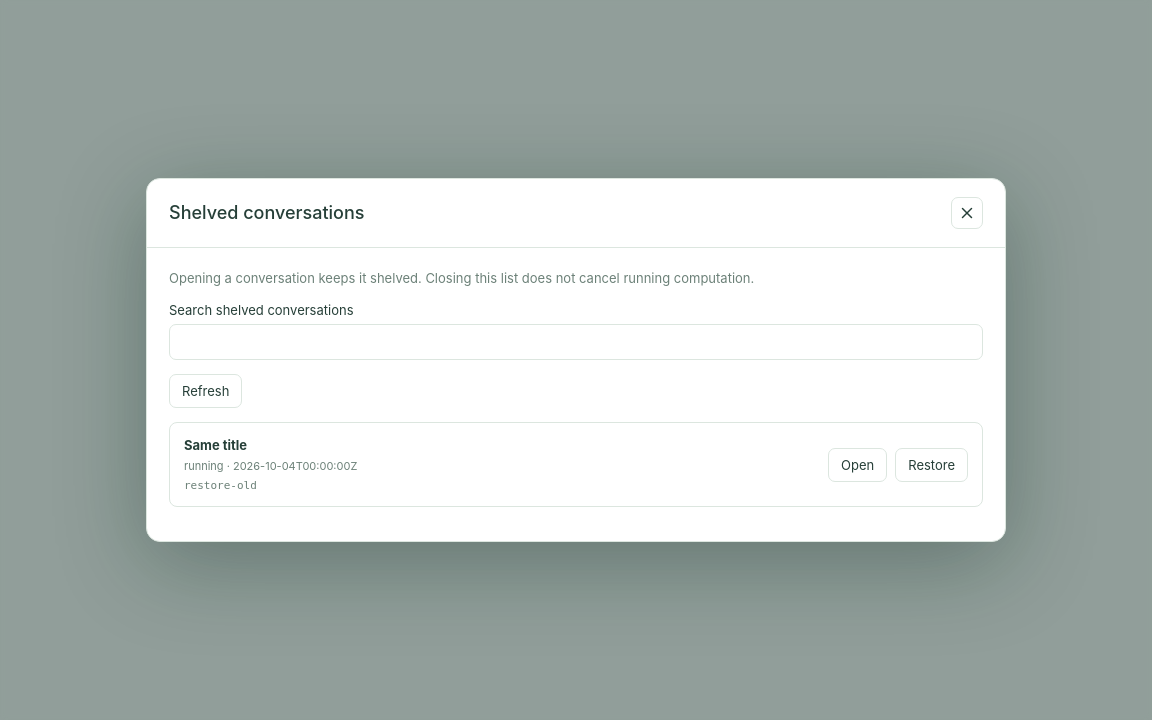
Test case: does not refresh a new query when an old restore finishes
Expected: the text "restore-old" is shown, [184,479,257,492]
Click the button "Restore".
click(932, 465)  # box [895,448,968,482]
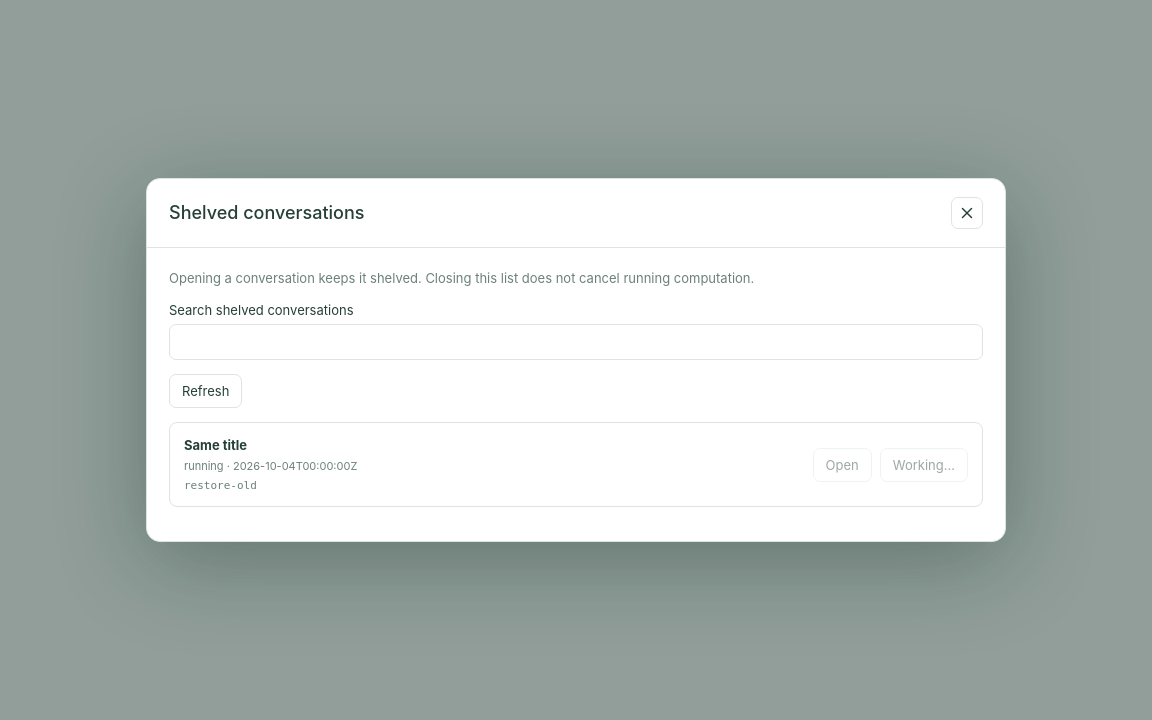
Type "new" into the field labelled "Search shelved conversations".
click(576, 342); type("new")  # box [169,324,983,360]
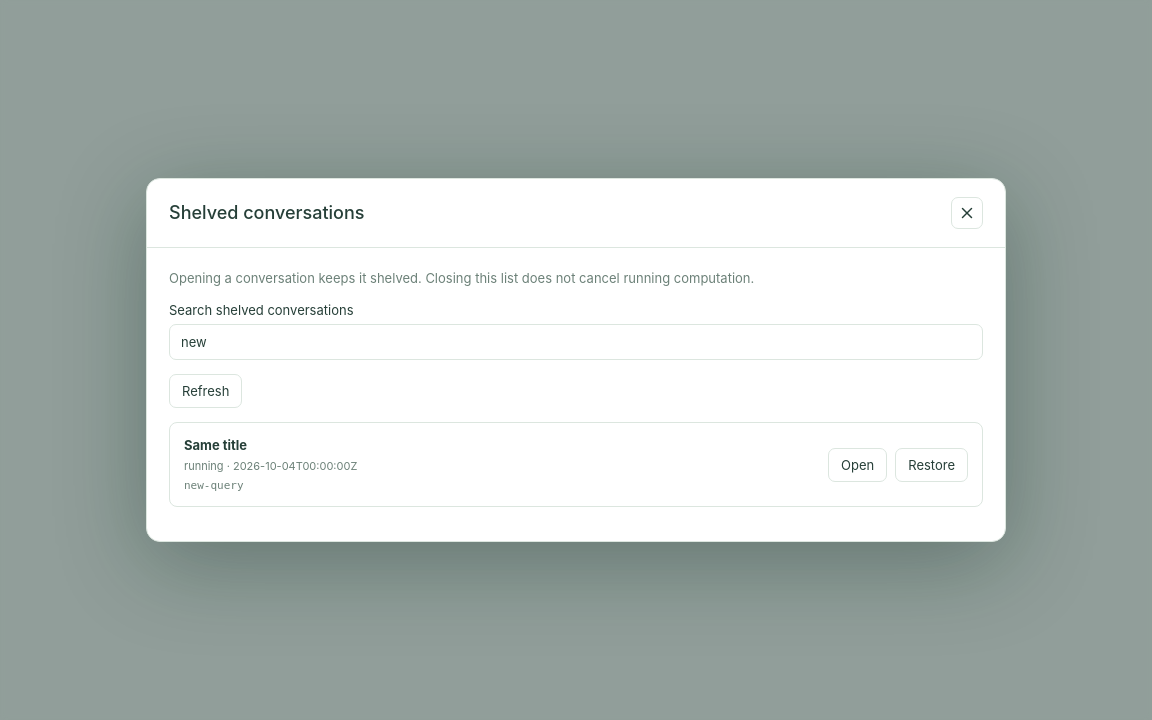
Expected: the text "new-query" is shown, [184,479,244,492]
